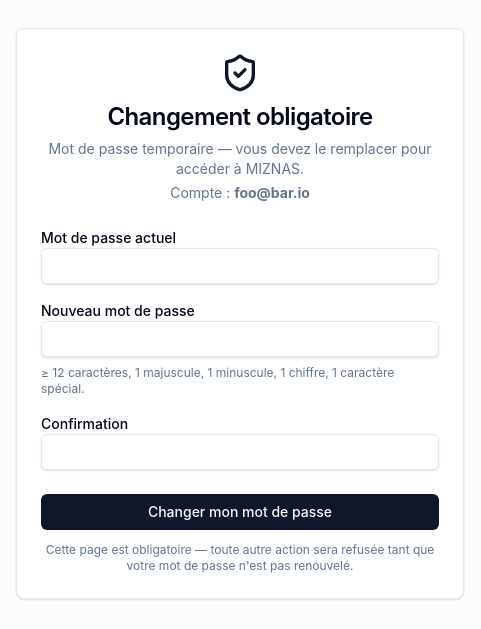
ForceChangePasswordPage › valide la policy : refuse mdp < 12 caractères
The width and height of the screenshot is (481, 629).
Type "OldPass!2025" into the password field with test id "cm-ancien".
click(240, 266); type("OldPass!2025")  # box [41, 248, 439, 284]
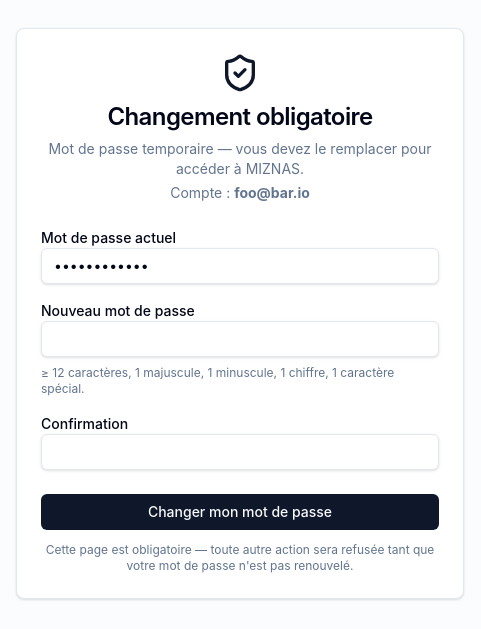
Type "Short!1" into the password field with test id "cm-nouveau".
click(240, 338); type("Short!1")  # box [41, 320, 439, 356]
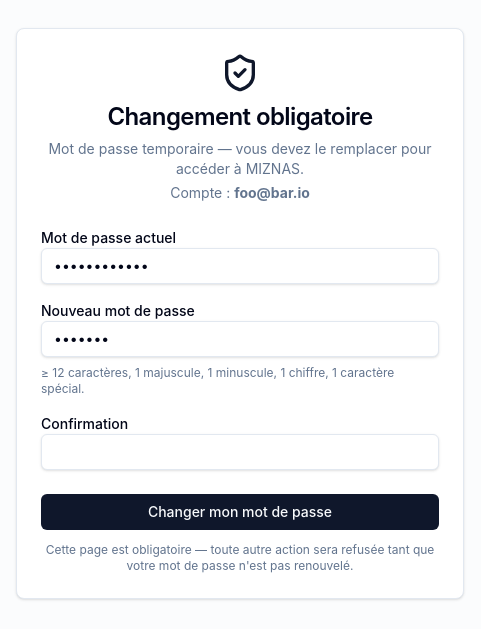
Type "Short!1" into the password field with test id "cm-confirmation".
click(240, 452); type("Short!1")  # box [41, 434, 439, 470]
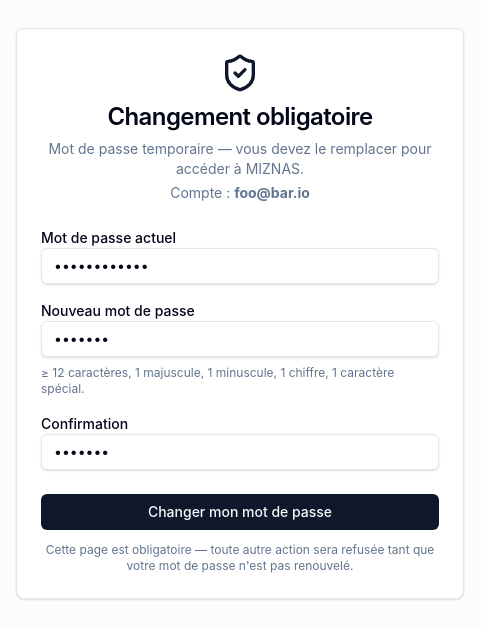
Click the button with test id "cm-submit".
click(240, 512)  # box [41, 494, 439, 530]
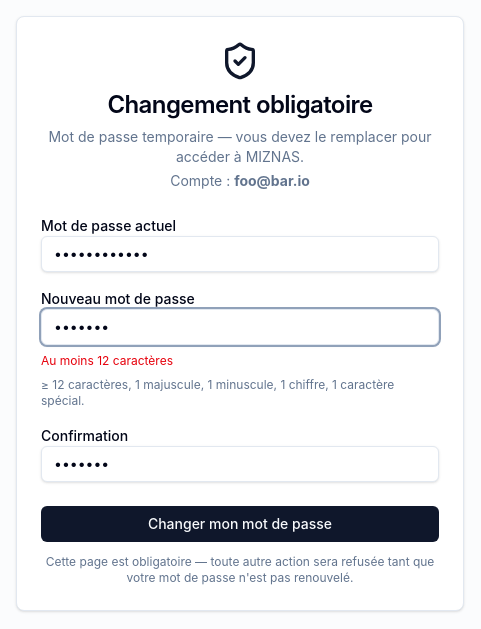
Result: the text "Au moins 12 caractères" is shown at [41, 352, 173, 368]
